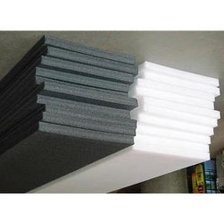foam_box: (27, 57, 224, 193), (0, 33, 142, 193)
